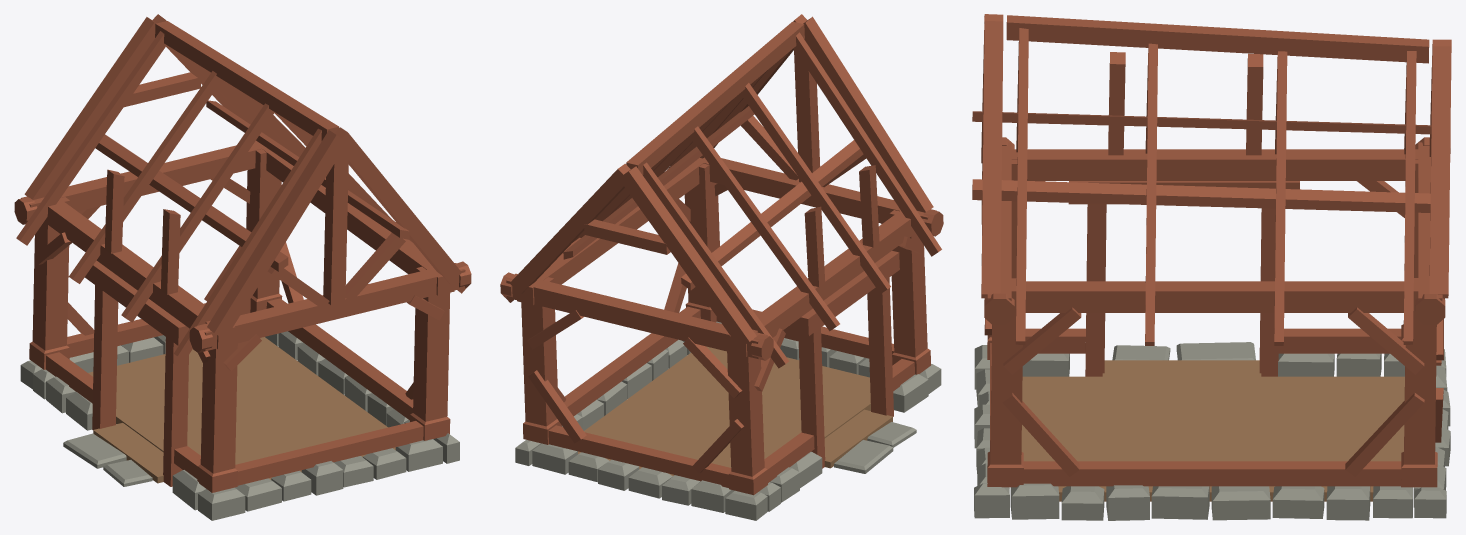
The model's file is shelter-frame.glb.
3 views of the same model, side by side, from view 1: azimuth 30°, elevation 25°; view 2: azimuth 150°, elevation 25°; view 3: azimuth 270°, elevation 25° (orthographic). The views are drawn at different scales.
Parts seen in each view (by area): view 1: timber_frame, floor, stone_footing; view 2: timber_frame, floor, stone_footing; view 3: timber_frame, floor, stone_footing.
Part boxes in pixels (left/top/right/bottom): timber_frame: left=14, top=14, right=471, bottom=492; floor: left=88, top=337, right=395, bottom=483; stone_footing: left=20, top=331, right=459, bottom=520; timber_frame: left=500, top=14, right=943, bottom=495; floor: left=578, top=346, right=892, bottom=475; stone_footing: left=515, top=321, right=941, bottom=520; timber_frame: left=972, top=14, right=1451, bottom=487; floor: left=1021, top=360, right=1404, bottom=501; stone_footing: left=974, top=342, right=1450, bottom=520.
Size of the model in its own units: 5.12 by 5.54 by 5.56.
